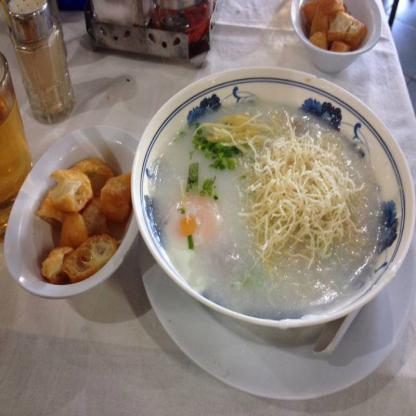Joke: (153, 104, 400, 326)
